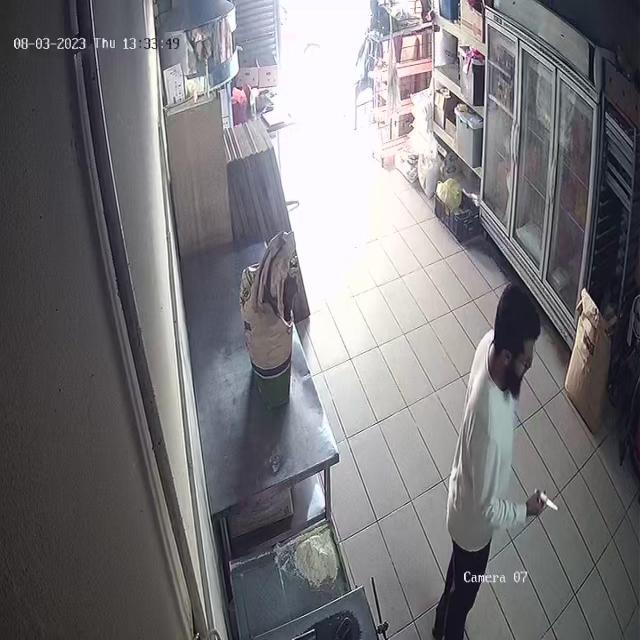Knife: (525, 474, 574, 522)
